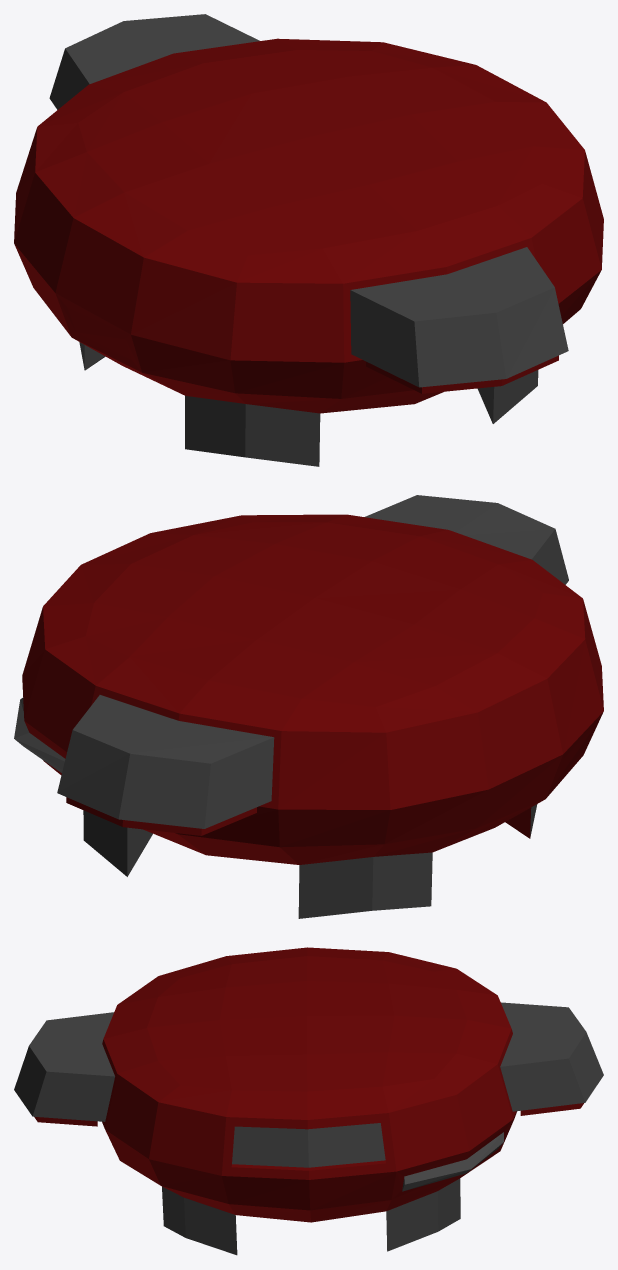
The model's file is Hostile_One_Retexture.fbx.
The picture shows the model from 3 angles, top to bottom: view 1: azimuth 30°, elevation 25°; view 2: azimuth 150°, elevation 25°; view 3: azimuth 270°, elevation 25°; orthographic projection. The views are drawn at different scales.
Parts seen in each view (by area): view 1: pCube6; view 2: pCube6; view 3: pCube6.
Part boxes in pixels (x1=…): pCube6: x1=14, y1=14, x2=603, y2=466; pCube6: x1=14, y1=495, x2=603, y2=918; pCube6: x1=14, y1=947, x2=603, y2=1255.
Size of the model in its own units: 271 by 122 by 365.
